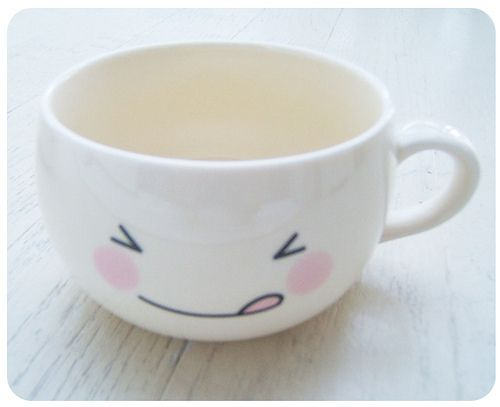cup: (34, 35, 483, 347)
